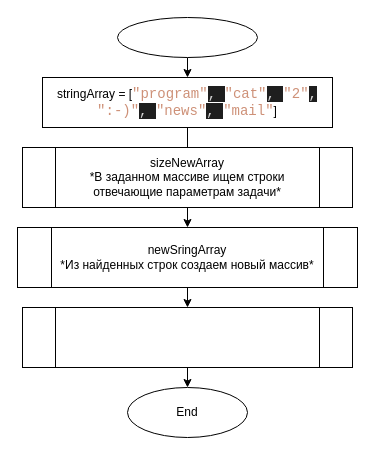
This 375x455 diagram has some shape labels left out. Here are the shapes that lost their labels. From the top down, the centre of each, then its label:
At (x=187, y=37): "Start".
At (x=187, y=337): "PrintStringArray Выводим новый массив в консоль".
